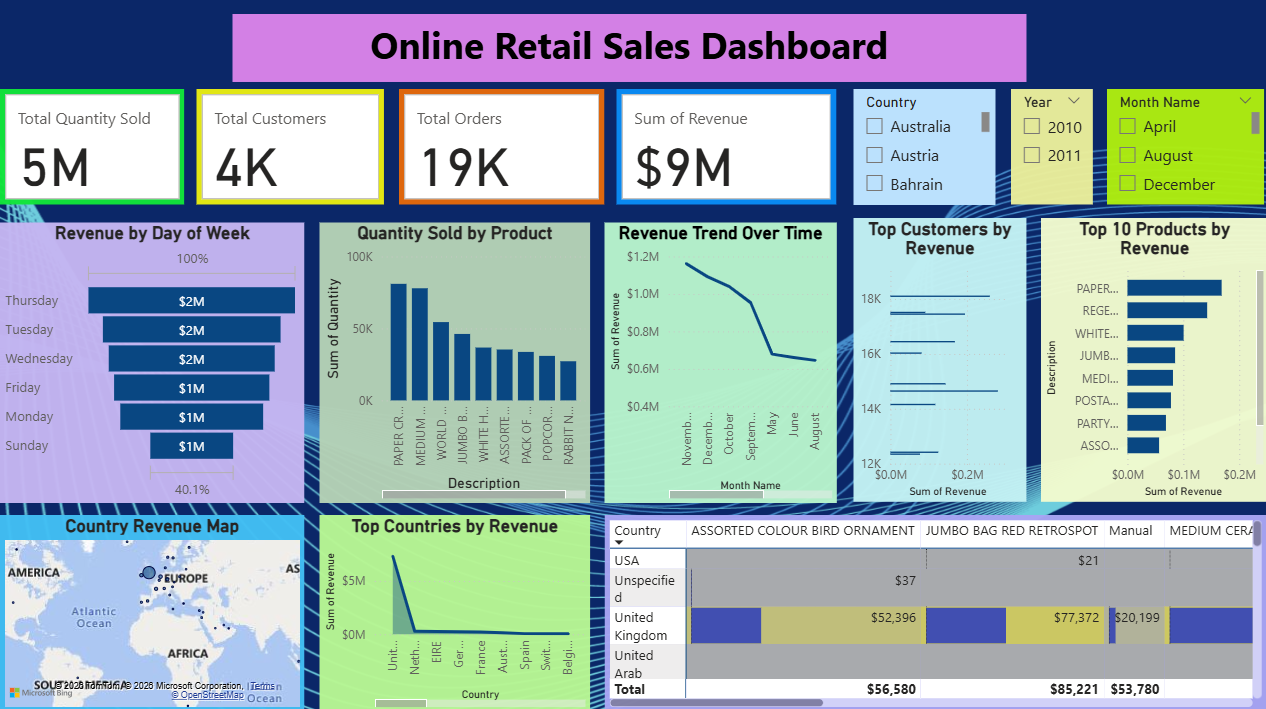

The page's visual inventory and layout, read from the dashboard file:
{"tool":"powerbi","page":{"name":"Page 1","canvas":[1280,720],"ordinal":0},"visuals":[{"type":"cardVisual","fields":{"Data":["Online Retail.Total Orders"]},"box":[403.2,90.7,207.3,116.6],"z":0},{"type":"cardVisual","fields":{"Data":["Online Retail.Total Customers"]},"box":[199.2,90.7,189.4,116.6],"z":1000},{"type":"cardVisual","fields":{"Data":["Online Retail.Total Quantity Sold"]},"box":[0,90.7,186.2,116.6],"z":2000},{"type":"cardVisual","fields":{"Data":["Sum(Online Retail.Revenue)"]},"box":[623.4,90.7,221.8,116.6],"z":3000},{"type":"lineChart","title":"Revenue Trend Over Time","fields":{"Category":["Online Retail.Month Name"],"Y":["Sum(Online Retail.Revenue)"]},"box":[610.4,225.1,234.8,283.4],"z":4000},{"type":"barChart","title":" Top 10 Products by Revenue","fields":{"Category":["Online Retail.Description"],"Y":["Sum(Online Retail.Revenue)"]},"box":[1050.9,221.8,229.9,286.6],"z":5000},{"type":"areaChart","title":"Top Countries by Revenue","fields":{"Category":["Online Retail.Country"],"Y":["Sum(Online Retail.Revenue)"]},"box":[322.2,521.4,273.6,199.2],"z":6000},{"type":"barChart","title":"Top Customers by Revenue","fields":{"Y":["Sum(Online Retail.Revenue)"],"Category":["Online Retail.CustomerID"]},"box":[861.4,221.8,174.9,286.6],"z":7000},{"type":"columnChart","title":"Quantity Sold by Product","fields":{"Category":["Online Retail.Description"],"Y":["Sum(Online Retail.Quantity)"]},"box":[322.2,225.1,273.6,283.4],"z":8000},{"type":"funnel","title":"Revenue by Day of Week","fields":{"Category":["Online Retail.Day Name"],"Y":["Sum(Online Retail.Revenue)"]},"box":[0,225.1,307.7,283.4],"z":9000},{"type":"pivotTable","fields":{"Rows":["Online Retail.Country"],"Columns":["Online Retail.Description"],"Values":["Sum(Online Retail.Revenue)"]},"box":[610.4,521.4,668.7,199.2],"z":10000},{"type":"map","title":"Country Revenue Map","fields":{"Category":["Online Retail.Country"],"Size":["Sum(Online Retail.Revenue)"]},"box":[0,521.4,307.7,199.2],"z":11000},{"type":"slicer","fields":{"Values":["Online Retail.Country"]},"box":[861.4,90.7,142.5,116.6],"z":12000},{"type":"slicer","fields":{"Values":["Online Retail.Year"]},"box":[1021.7,90.7,82.6,116.6],"z":13000},{"type":"slicer","fields":{"Values":["Online Retail.Month Name"]},"box":[1118.9,90.7,158.7,116.6],"z":14000},{"type":"textbox","box":[235,15,801.7,68.3],"z":15000}]}

Visuals, with their boxes in screenshot pixels (x1, y1, x2, y2), scaled from the page's 1280x720 canvas onto the 1266x709 screenshot:
cardVisual - Online Retail.Total Orders: [399, 89, 604, 204]
cardVisual - Online Retail.Total Customers: [197, 89, 384, 204]
cardVisual - Online Retail.Total Quantity Sold: [0, 89, 184, 204]
cardVisual - Sum(Online Retail.Revenue): [617, 89, 836, 204]
"Revenue Trend Over Time" lineChart: [604, 222, 836, 501]
" Top 10 Products by Revenue" barChart: [1039, 218, 1265, 501]
"Top Countries by Revenue" areaChart: [319, 513, 589, 708]
"Top Customers by Revenue" barChart: [852, 218, 1025, 501]
"Quantity Sold by Product" columnChart: [319, 222, 589, 501]
"Revenue by Day of Week" funnel: [0, 222, 304, 501]
pivotTable - Online Retail.Country x Online Retail.Description: [604, 513, 1265, 708]
"Country Revenue Map" map: [0, 513, 304, 708]
slicer - Online Retail.Country: [852, 89, 993, 204]
slicer - Online Retail.Year: [1011, 89, 1092, 204]
slicer - Online Retail.Month Name: [1107, 89, 1264, 204]
textbox: [232, 15, 1025, 82]
